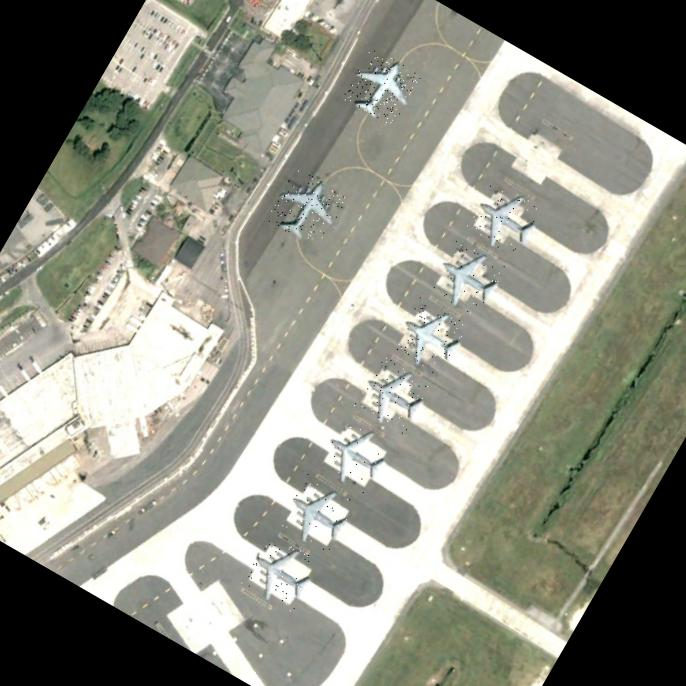A3: (266, 167, 348, 250), (314, 415, 396, 496), (240, 532, 320, 614), (341, 47, 421, 128), (352, 356, 432, 436), (427, 239, 507, 318), (277, 474, 356, 554), (390, 297, 469, 376), (464, 180, 543, 257)
